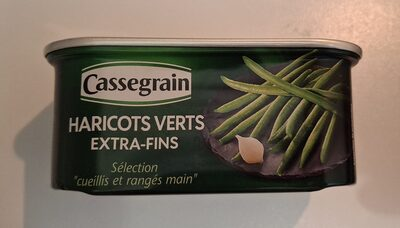Haricots Verts extra-fins 1/4: (20, 11, 380, 217)
